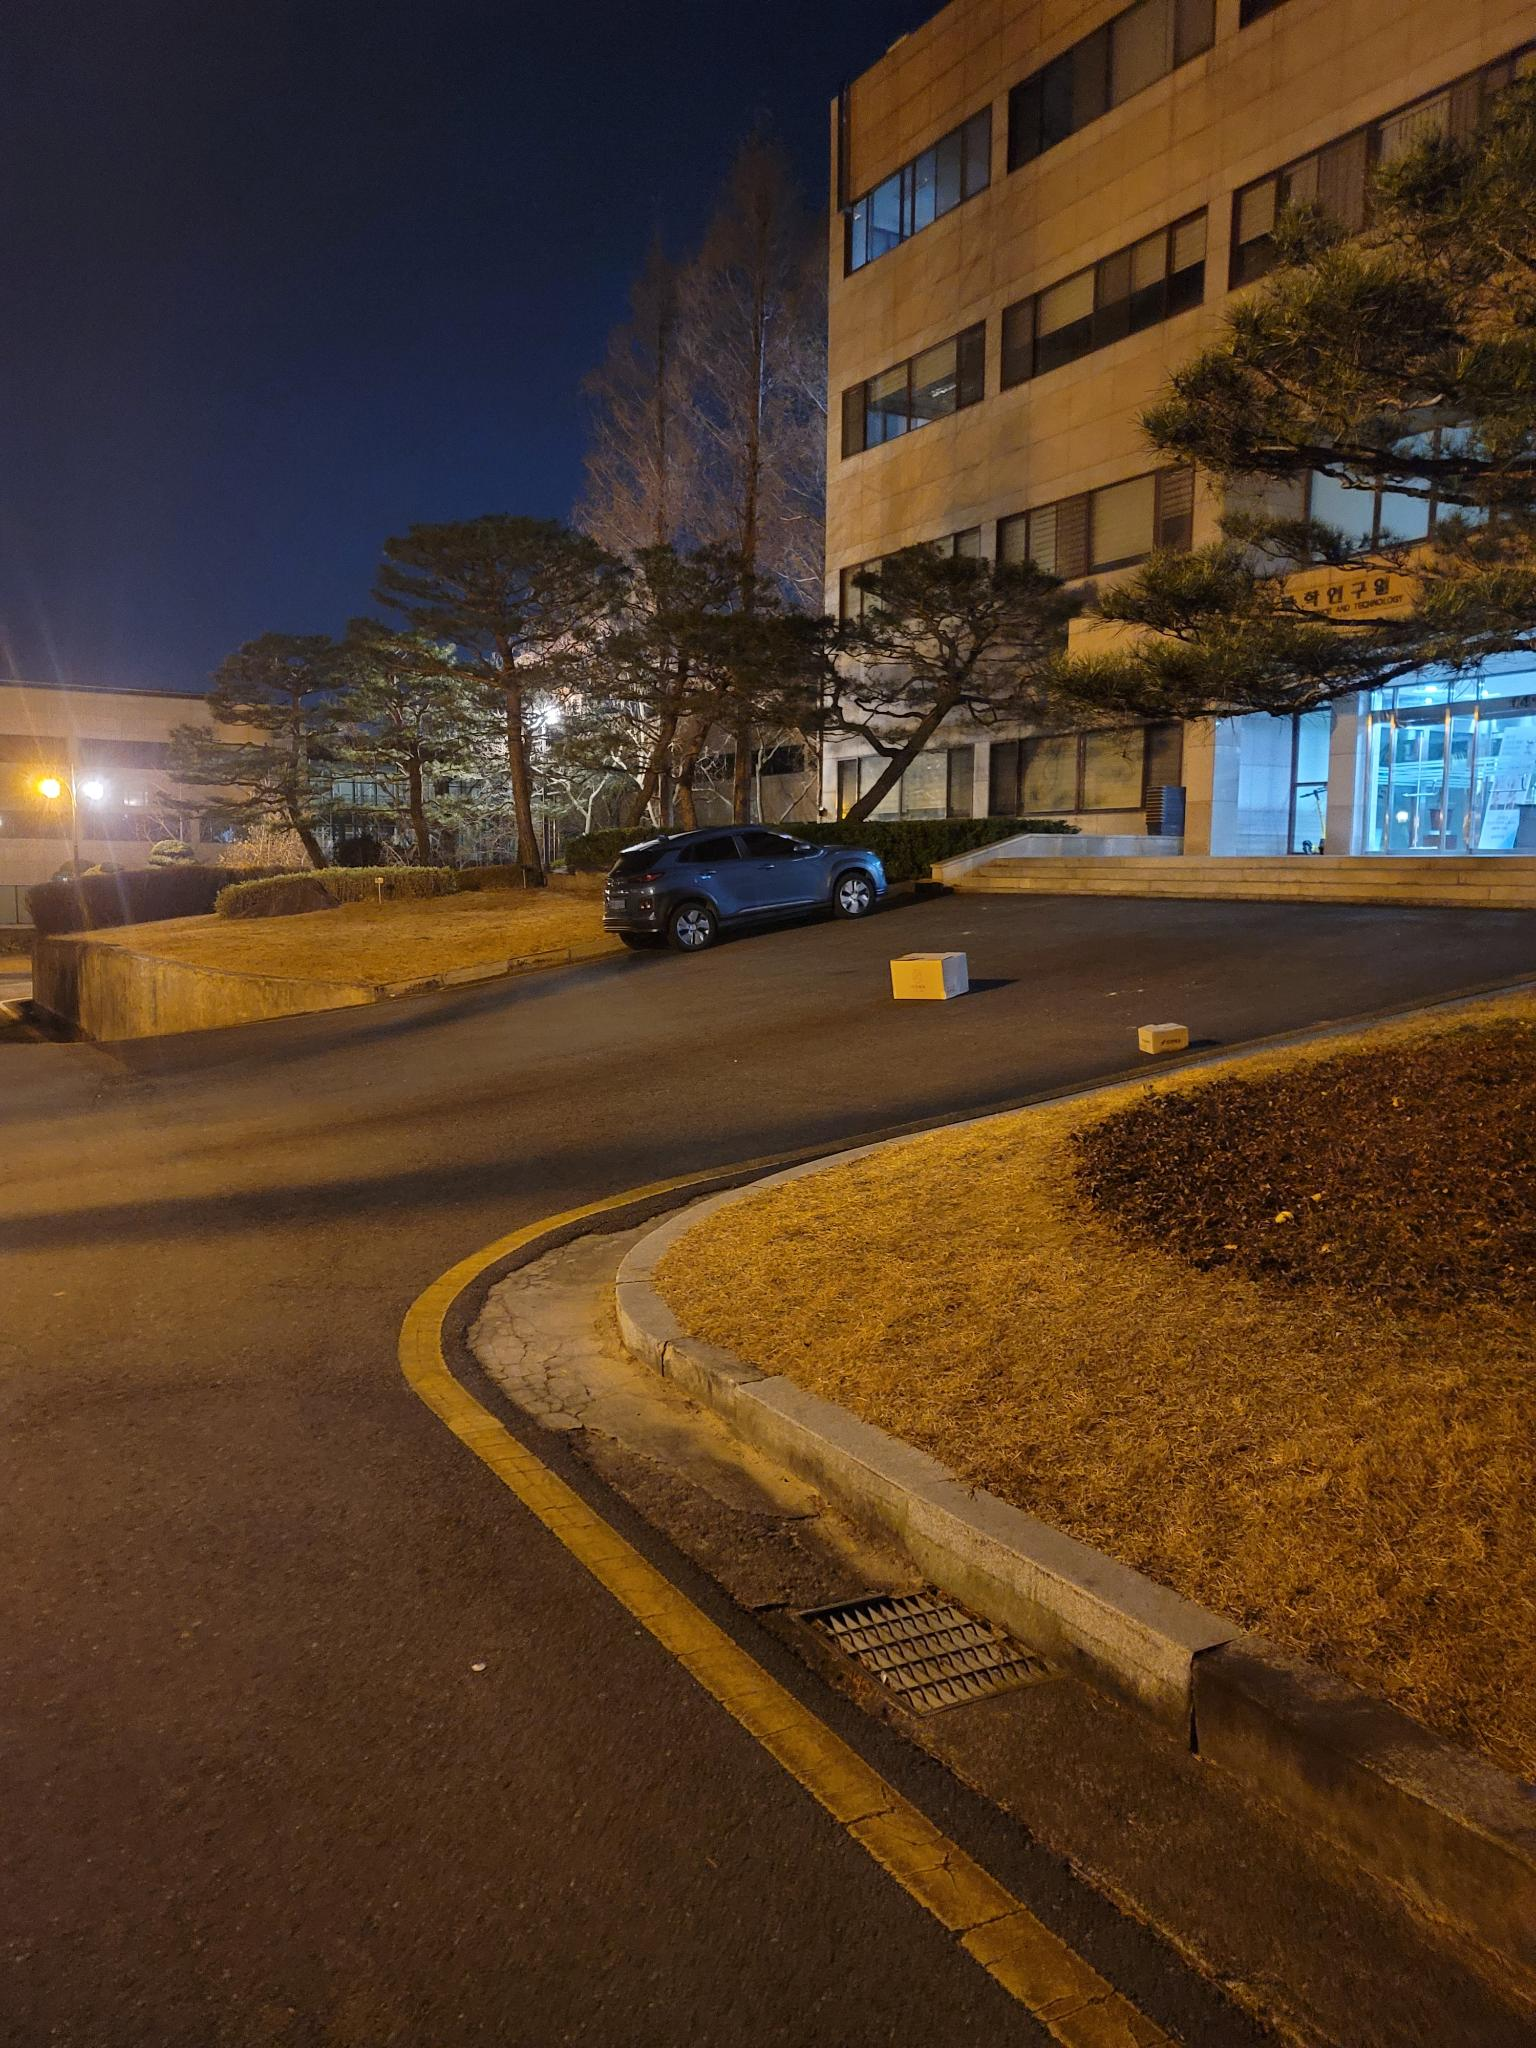Box: (865, 934, 979, 1013), (1131, 1011, 1196, 1064)
